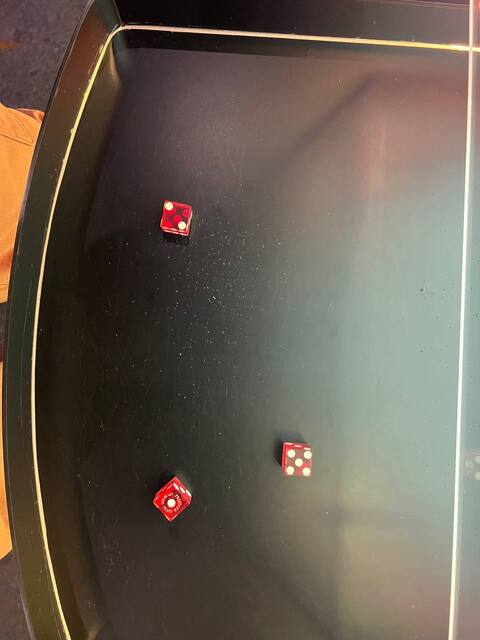five: (281, 445, 316, 479)
one: (154, 486, 187, 519)
two: (157, 198, 194, 235)
